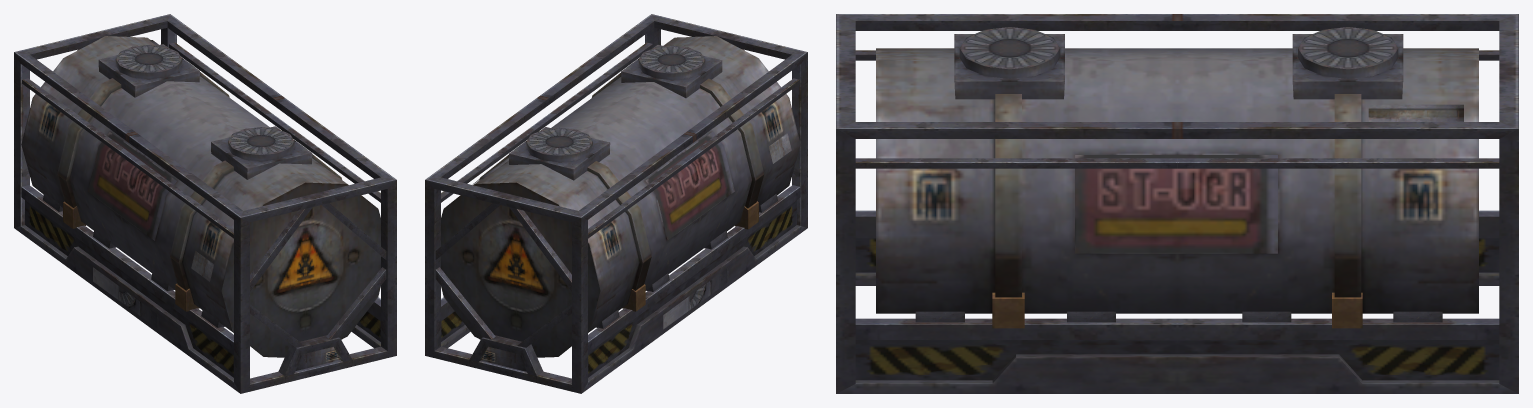
The model's file is yw_gonghuilingdi_xiaowujian01.FBX.
3 views of the same model, side by side, from view 1: azimuth 30°, elevation 25°; view 2: azimuth 150°, elevation 25°; view 3: azimuth 270°, elevation 25° (orthographic). The views are drawn at different scales.
Visible parts, largest first — view 1: yw_gonghuilingdi_xiaowujian01; view 2: yw_gonghuilingdi_xiaowujian01; view 3: yw_gonghuilingdi_xiaowujian01.
Part boxes in pixels (bbox=[...]): yw_gonghuilingdi_xiaowujian01: bbox=[14, 14, 396, 393]; yw_gonghuilingdi_xiaowujian01: bbox=[425, 14, 807, 393]; yw_gonghuilingdi_xiaowujian01: bbox=[836, 14, 1518, 393].
Size of the model in its own units: 201 by 210 by 451.
